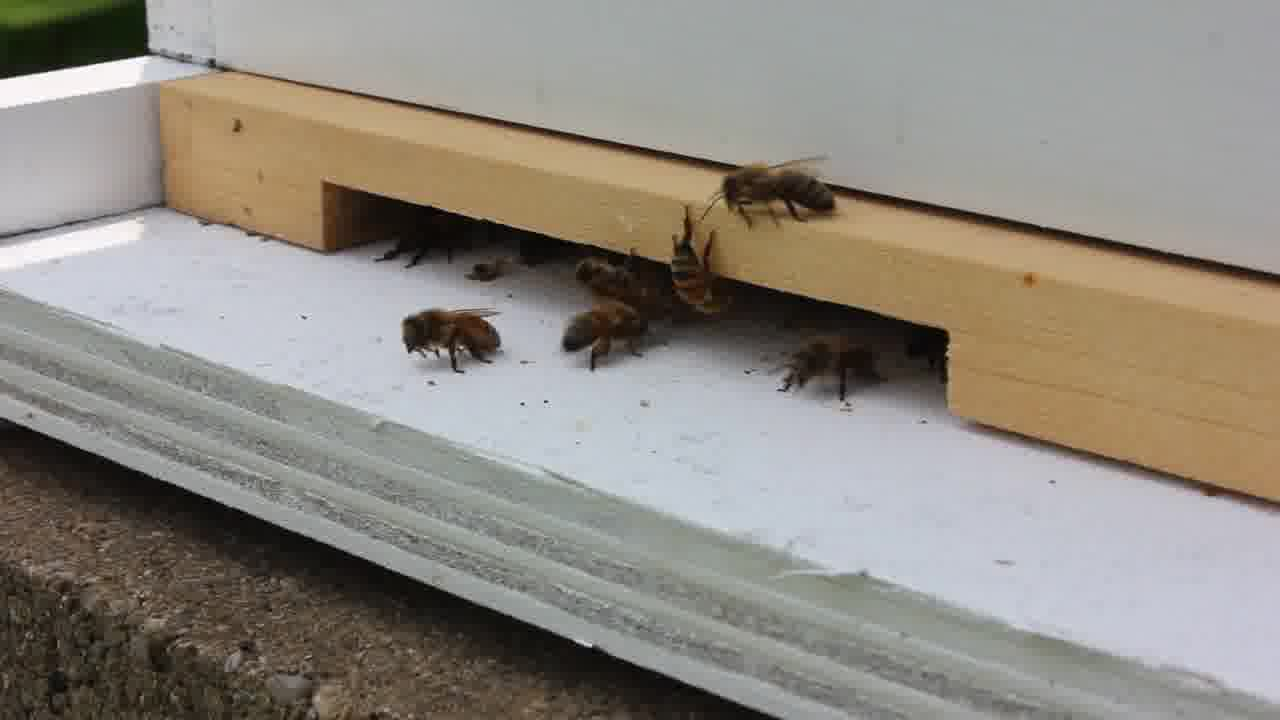pollen: (558, 299, 654, 372)
